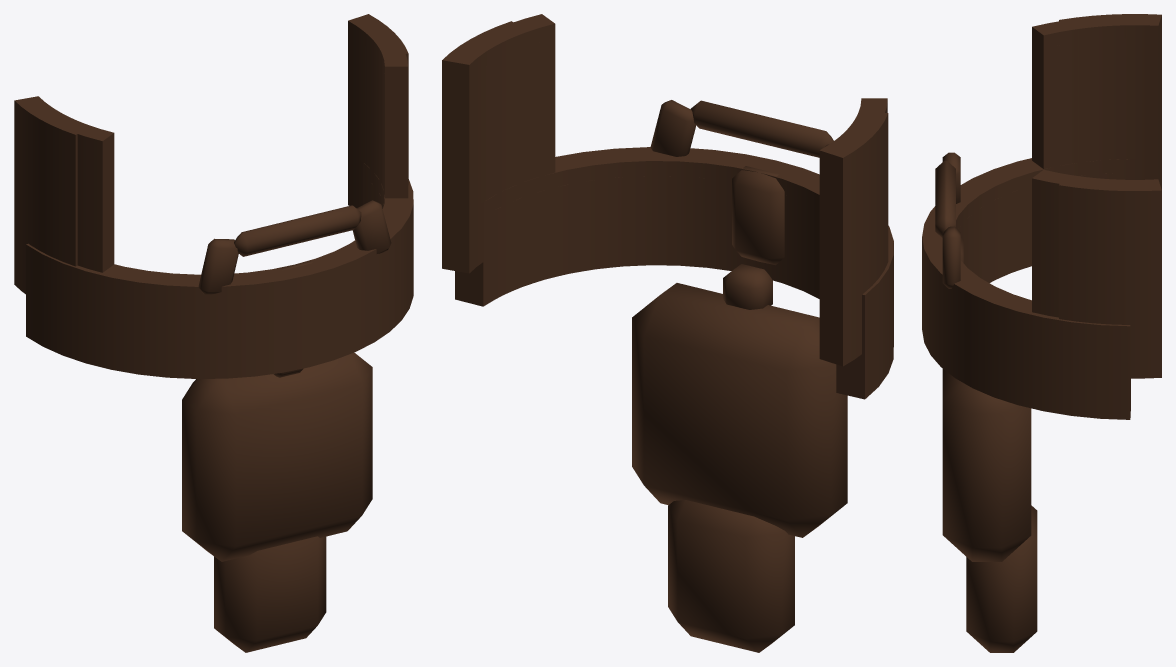
The model's file is Barbas.fbx.
3 renders of one model, left to right at view 1: azimuth 30°, elevation 25°; view 2: azimuth 150°, elevation 25°; view 3: azimuth 270°, elevation 25°, orthographic. The views are drawn at different scales.
Visible parts, largest first — view 1: Barba_Larga__Cabeza__Pelo, Barba_Patillas__Cabeza__Pelo, Barba_Bigote__Cabeza__Pelo, Barba_Corta__Cabeza__Pelo; view 2: Barba_Larga__Cabeza__Pelo, Barba_Patillas__Cabeza__Pelo, Barba_Corta__Cabeza__Pelo, Barba_Perilla__Cabeza__Pelo, Barba_Bigote__Cabeza__Pelo; view 3: Barba_Larga__Cabeza__Pelo, Barba_Patillas__Cabeza__Pelo, Barba_Corta__Cabeza__Pelo, Barba_Bigote__Cabeza__Pelo.
Part boxes in pixels (<box>): Barba_Larga__Cabeza__Pelo: <box>26,22,413,652</box>; Barba_Patillas__Cabeza__Pelo: <box>14,14,408,294</box>; Barba_Bigote__Cabeza__Pelo: <box>198,200,391,294</box>; Barba_Corta__Cabeza__Pelo: <box>364,45,384,207</box>; Barba_Larga__Cabeza__Pelo: <box>455,14,893,652</box>; Barba_Patillas__Cabeza__Pelo: <box>442,21,888,366</box>; Barba_Corta__Cabeza__Pelo: <box>486,42,811,299</box>; Barba_Perilla__Cabeza__Pelo: <box>723,166,784,309</box>; Barba_Bigote__Cabeza__Pelo: <box>650,100,833,157</box>; Barba_Larga__Cabeza__Pelo: <box>922,15,1140,652</box>; Barba_Patillas__Cabeza__Pelo: <box>1059,14,1161,378</box>; Barba_Corta__Cabeza__Pelo: <box>958,38,1126,280</box>; Barba_Bigote__Cabeza__Pelo: <box>935,152,960,288</box>.
Bounding box in the file's own units: 0.4031 × 0.56 × 0.2272.
